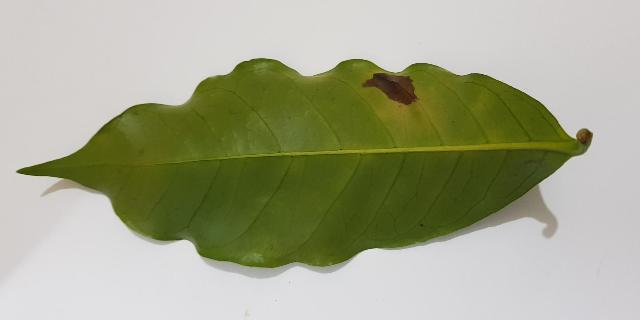cercospora: (364, 73, 417, 105)
